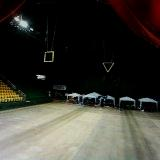Yellow_Square_GShape: (44, 51, 54, 62)
Yellow_Triangle_Gshape: (102, 61, 115, 74)
